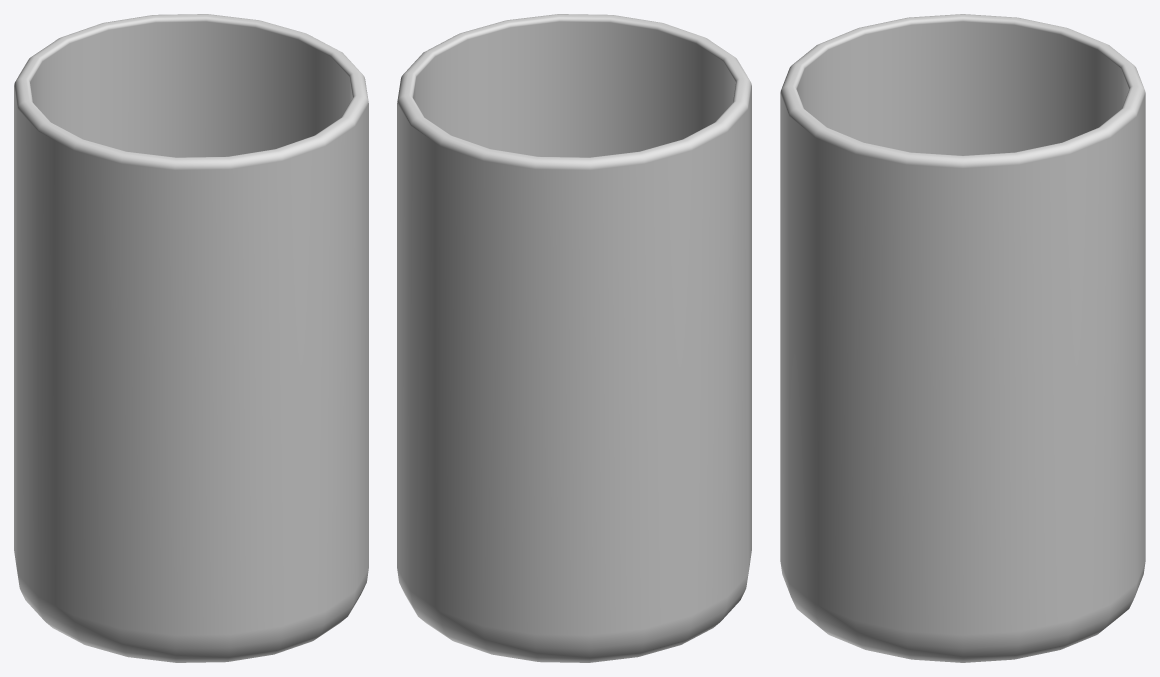
Rendered from pen_holder1.glb.
The picture shows the model from 3 angles, left to right: view 1: azimuth 30°, elevation 25°; view 2: azimuth 150°, elevation 25°; view 3: azimuth 270°, elevation 25°; orthographic projection.
Visible parts, largest first — view 1: Pen Holder; view 2: Pen Holder; view 3: Pen Holder.
Boxes of the visible parts, x1=… form: Pen Holder: x1=14, y1=14, x2=368, y2=662; Pen Holder: x1=397, y1=14, x2=751, y2=662; Pen Holder: x1=780, y1=14, x2=1145, y2=662.
Size of the model in its own units: 0.0137 by 0.0217 by 0.0141.
1 material, 1 textured.
